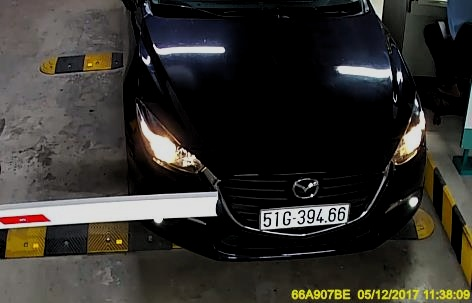plate: (256, 199, 351, 231)
